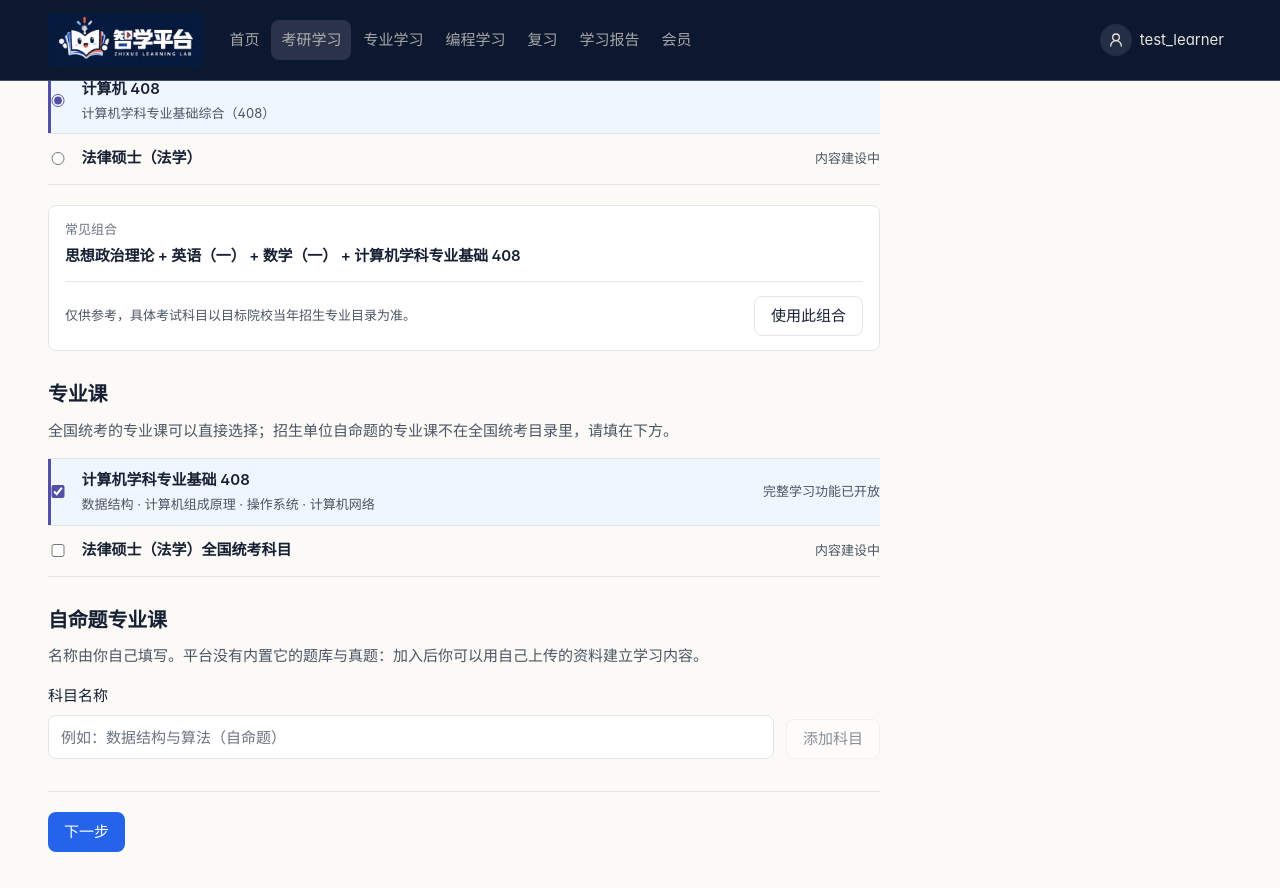
设置考试方案 › asks before a suggested combination would drop what the learner chose
The width and height of the screenshot is (1280, 888).
(page scrolled)
Click the button "下一步". click: [86, 832]
box: [48, 812, 125, 852]
(page scrolled)
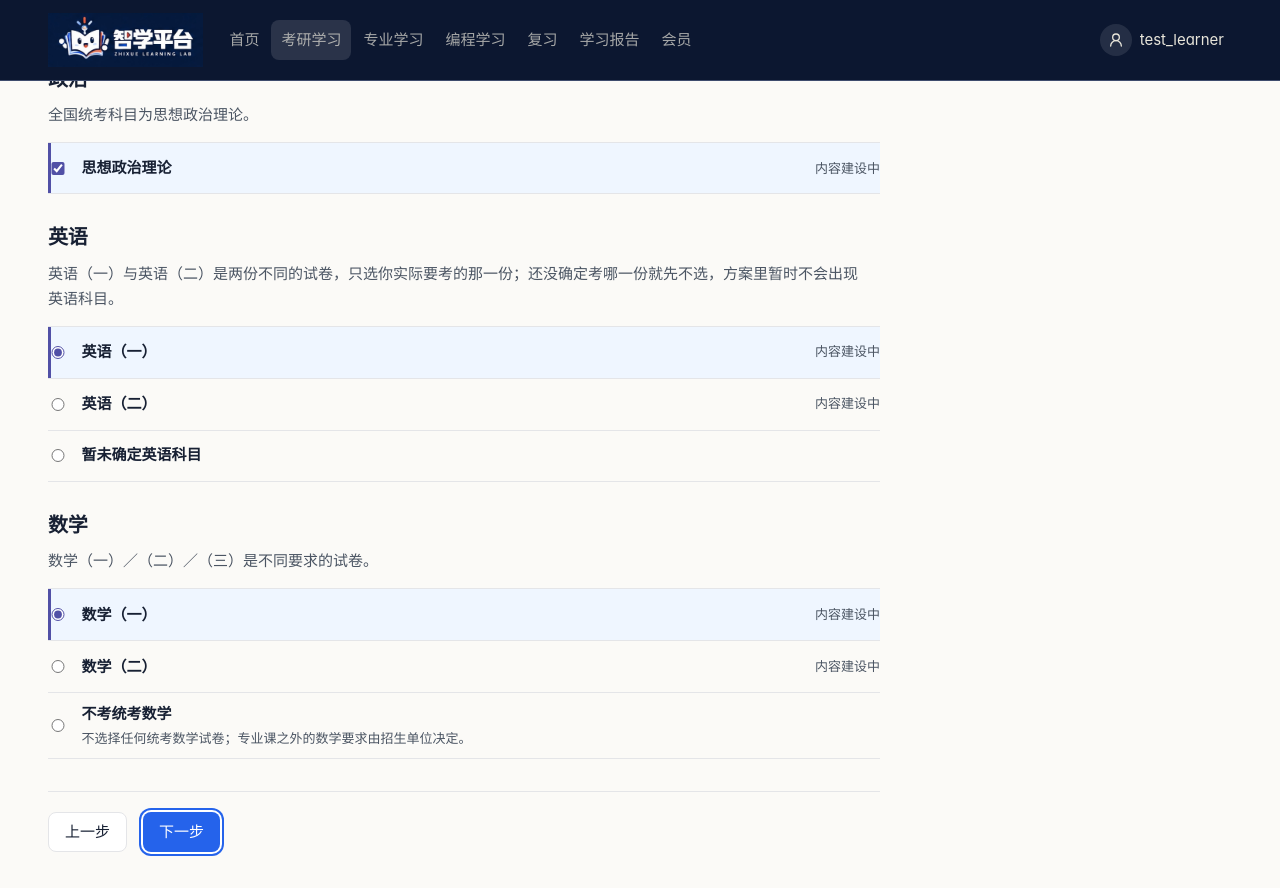
Click the radio button labelled "数学（二） 内容建设中". click: [58, 667]
box: [48, 660, 68, 674]
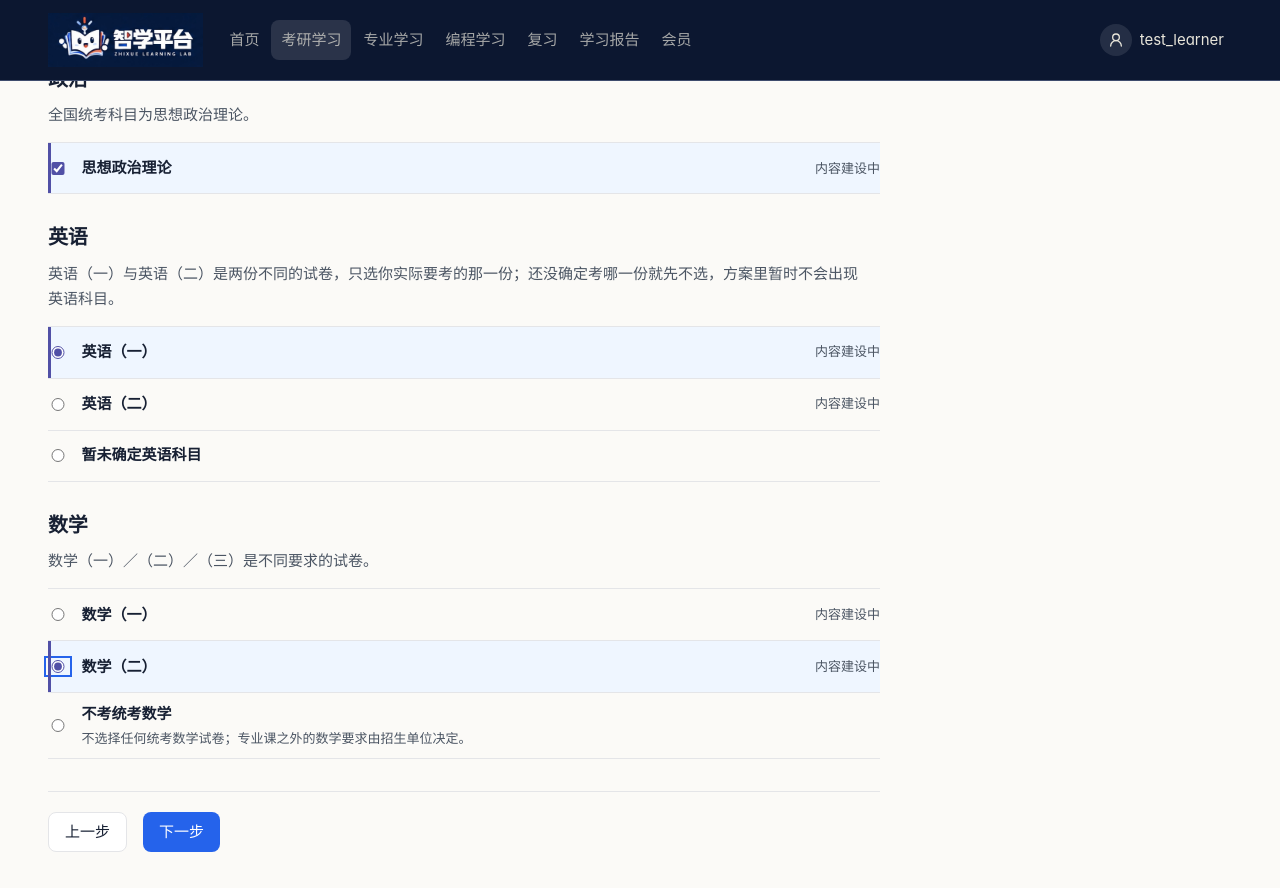
Click the button "上一步". click: [88, 832]
box: [48, 812, 127, 852]
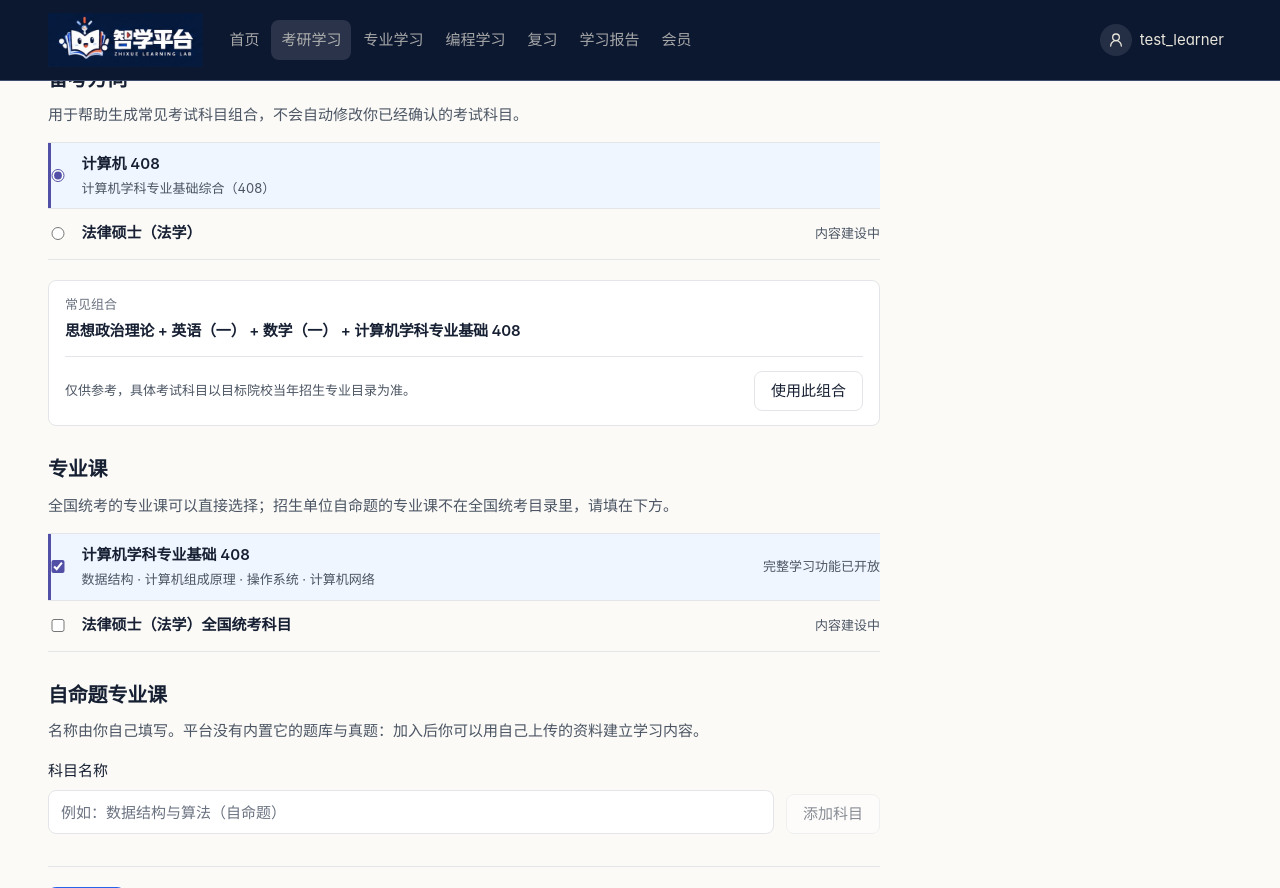
Click the button "使用此组合". click: [808, 391]
box: [754, 371, 863, 411]
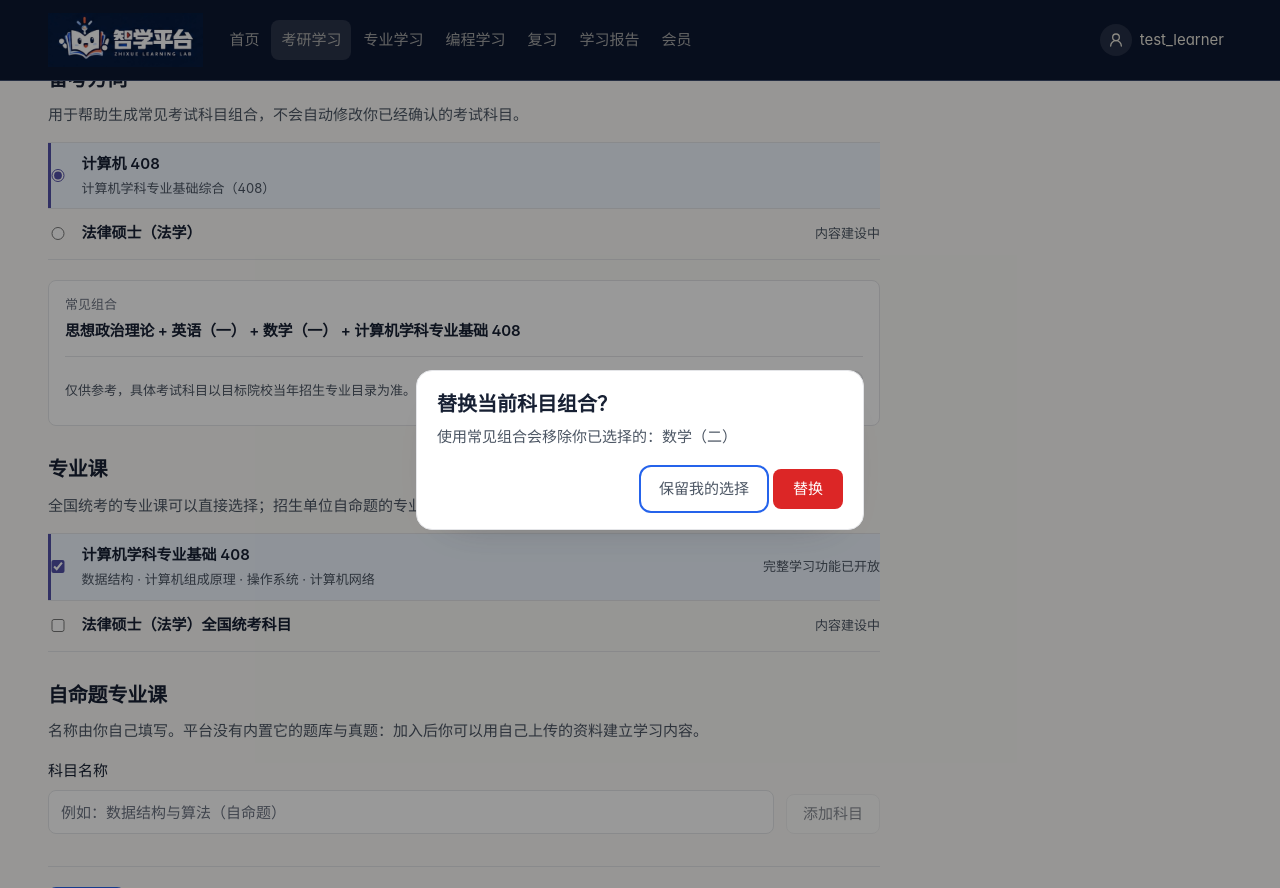
Expected: the text "使用常见组合会移除你已选择的：数学（二）" is shown, [437, 427, 737, 446]
Click the button "保留我的选择". click: [704, 489]
box: [643, 469, 765, 509]
(page scrolled)
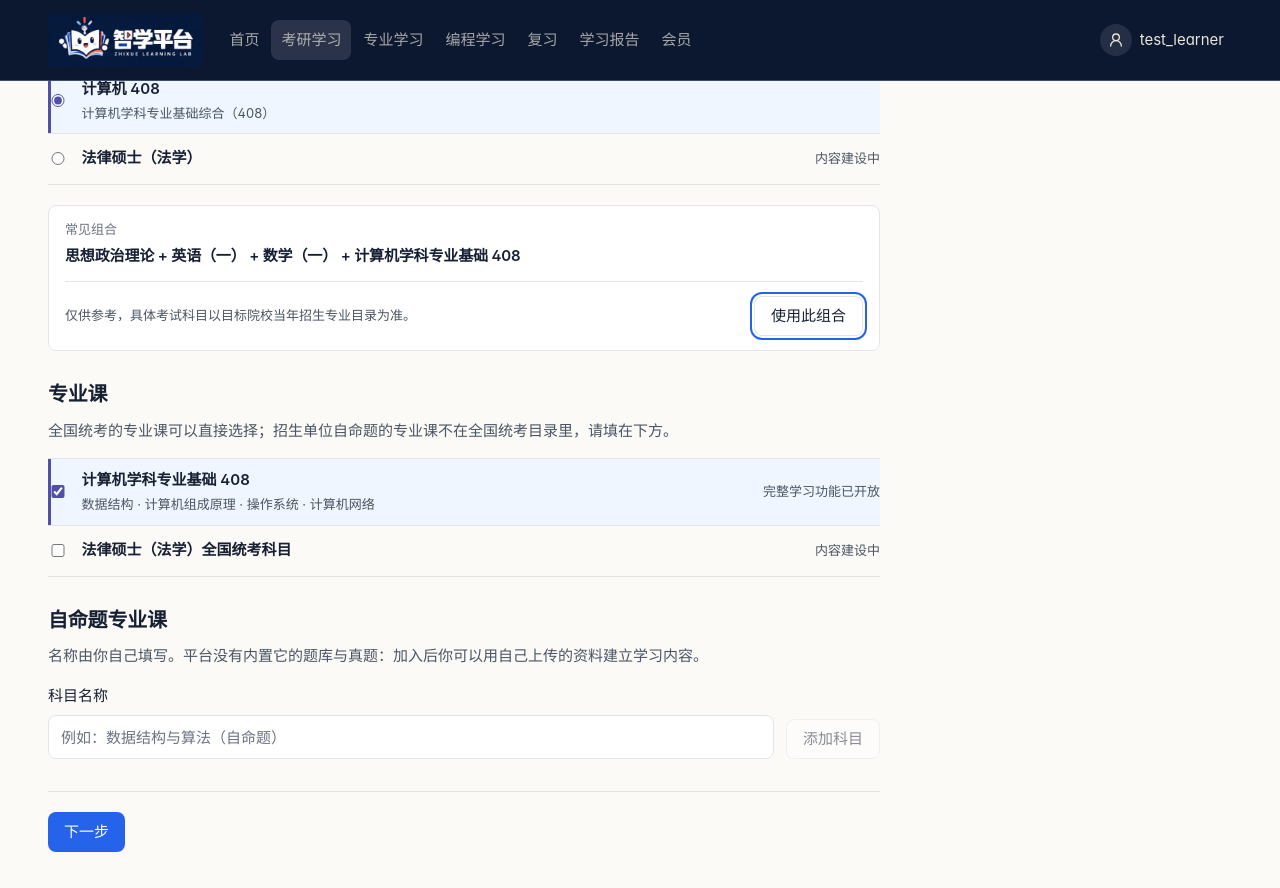
Click the button "下一步". click: [86, 832]
box: [48, 812, 125, 852]
(page scrolled)
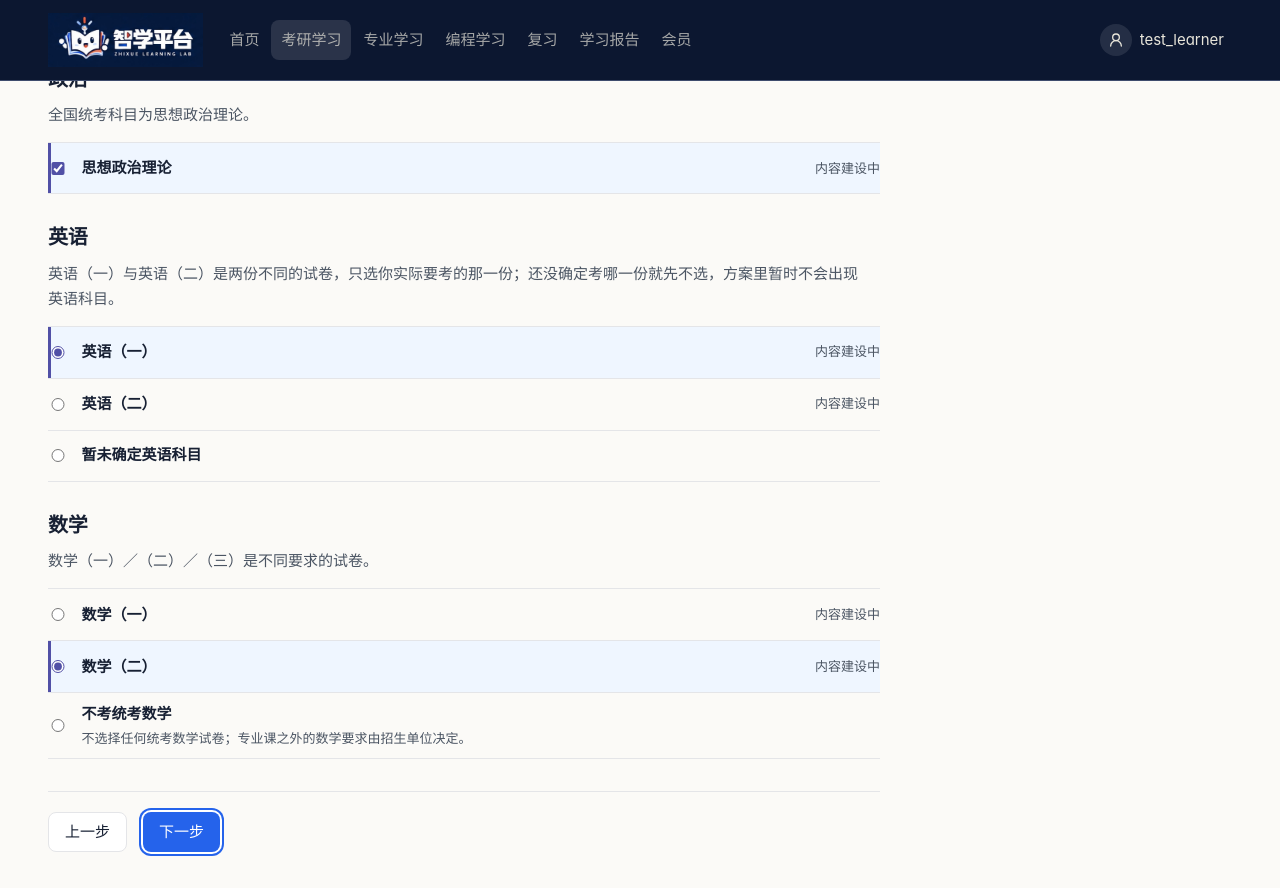
Expected: the radio button labelled "数学（二） 内容建设中" is checked, [48, 660, 68, 674]
